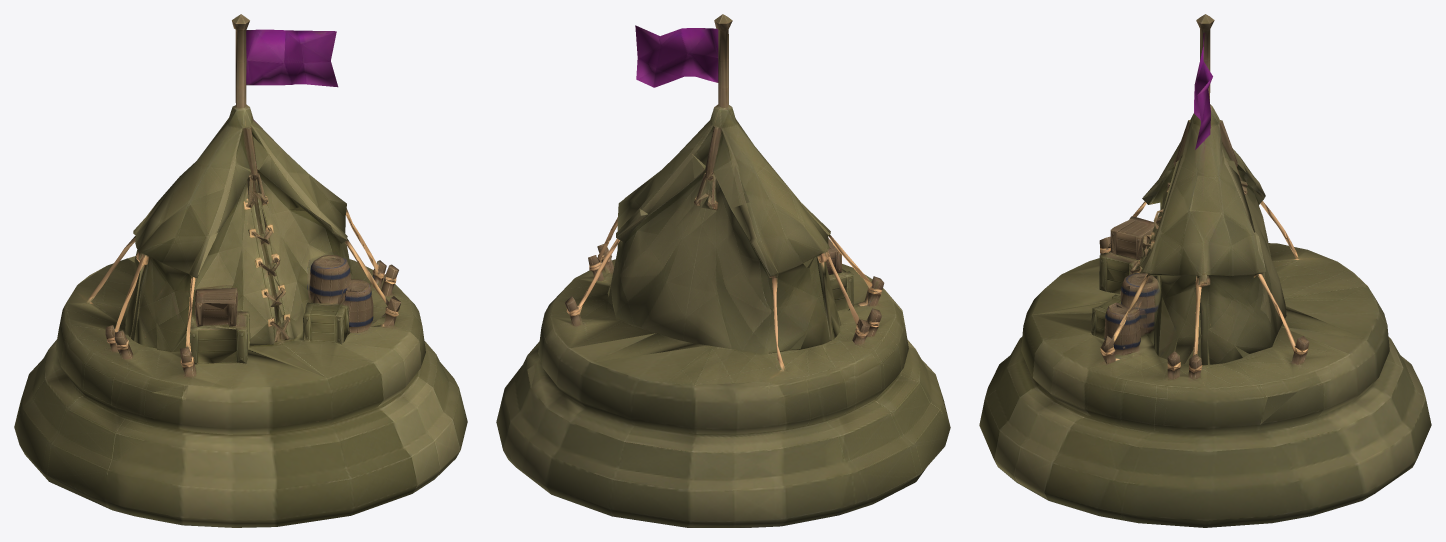
The model's file is anzac_rook.glb.
3 views of the same model, side by side, from view 1: azimuth 30°, elevation 25°; view 2: azimuth 150°, elevation 25°; view 3: azimuth 270°, elevation 25° (orthographic).
Size of the model in its own units: 1.95 by 2 by 1.95.
Materials: 1 (1 with a texture image).
